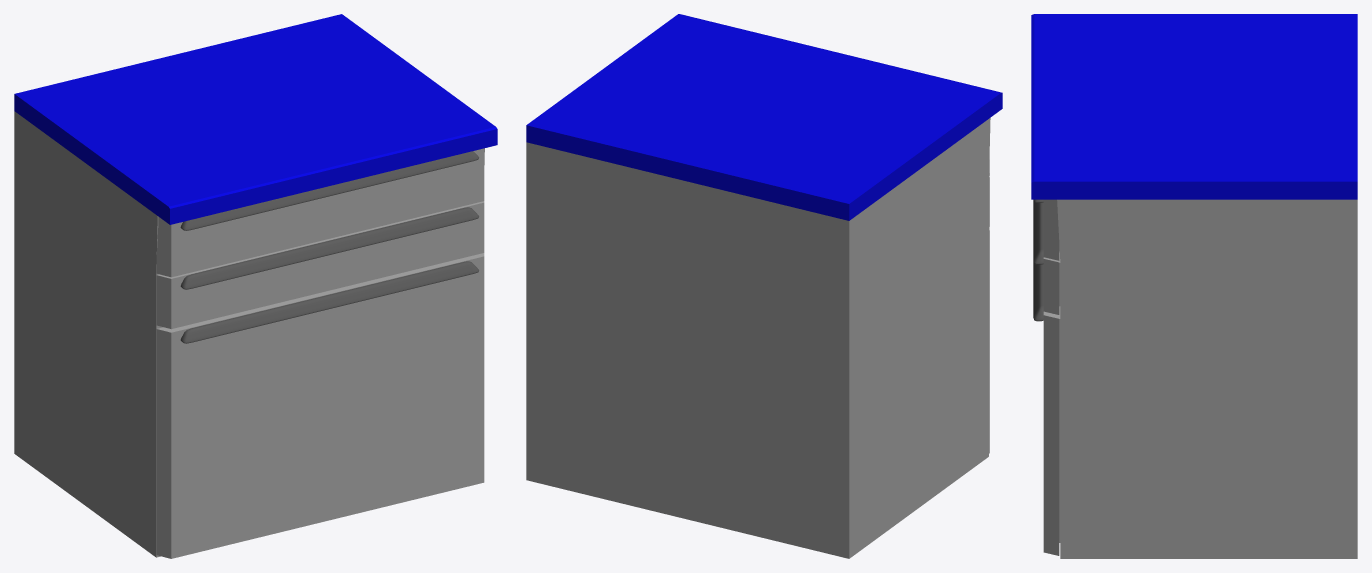
The model's file is CabinetLower.fbx.
3 renders of one model, left to right at view 1: azimuth 30°, elevation 25°; view 2: azimuth 150°, elevation 25°; view 3: azimuth 270°, elevation 25°, orthographic. The views are drawn at different scales.
Visible parts, largest first — view 1: Base, BottomDrawer, TopDrawer, MidDrawer, Handle (×3); view 2: Base; view 3: Base, BottomDrawer, Handle (×2), MidDrawer, TopDrawer.
Part boxes in pixels (box(x1,y1,x2,y2)): Base: box(14, 14, 497, 557); BottomDrawer: box(156, 253, 484, 558); TopDrawer: box(156, 148, 484, 277); MidDrawer: box(156, 201, 484, 329); Handle (×3): box(180, 151, 478, 343); Base: box(526, 14, 1002, 558); Base: box(1031, 14, 1357, 558); BottomDrawer: box(1043, 306, 1060, 555); Handle (×2): box(1033, 200, 1043, 321); MidDrawer: box(1043, 251, 1060, 314); TopDrawer: box(1043, 199, 1059, 260).
Bounding box in the file's own units: 4 × 4.2 × 3.29.
